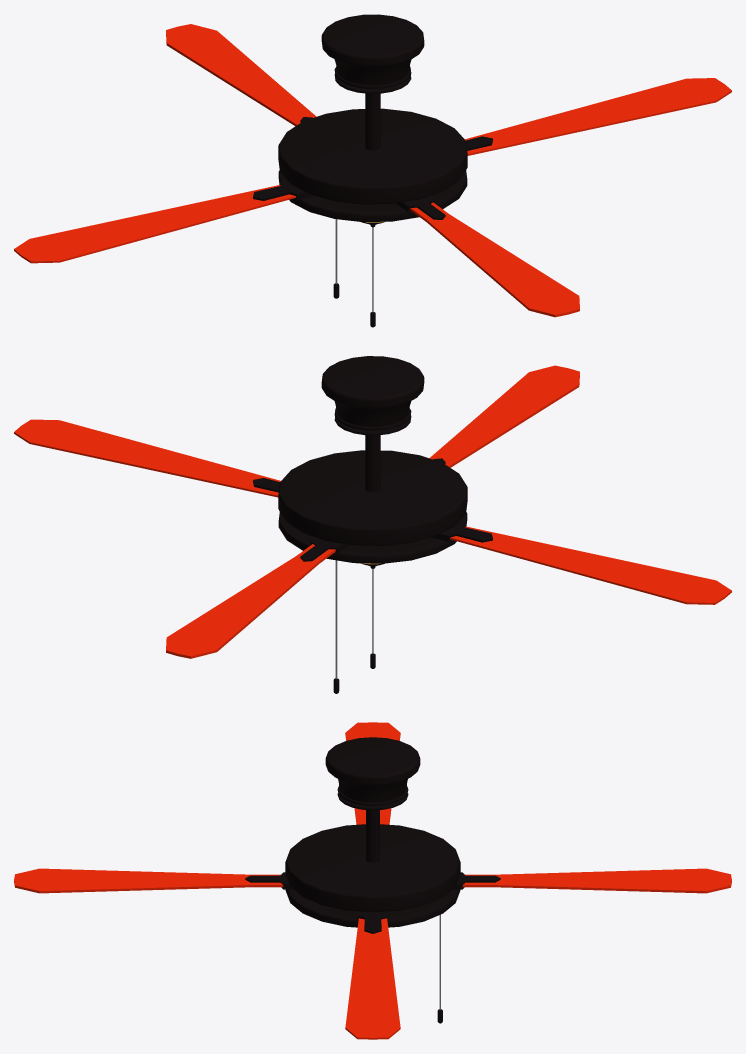
The model's file is sm_ceiling_fan.fbx.
3 renders of one model, top to bottom at view 1: azimuth 30°, elevation 25°; view 2: azimuth 150°, elevation 25°; view 3: azimuth 270°, elevation 25°, orthographic. The views are drawn at different scales.
Visible parts, largest first — view 1: blades_low (×2), ceilingfanbody_low; view 2: blades_low (×2), ceilingfanbody_low; view 3: ceilingfanbody_low, blades_low (×2).
Boxes of the visible parts, left/top/right/bottom form: blades_low (×2): left=14, top=24, right=731, bottom=317; ceilingfanbody_low: left=278, top=14, right=467, bottom=227; blades_low (×2): left=14, top=365, right=731, bottom=658; ceilingfanbody_low: left=278, top=356, right=467, bottom=568; ceilingfanbody_low: left=285, top=737, right=460, bottom=927; blades_low (×2): left=14, top=722, right=731, bottom=1039.
Bounding box in the file's own units: 15.75 × 6.25 × 15.15.
